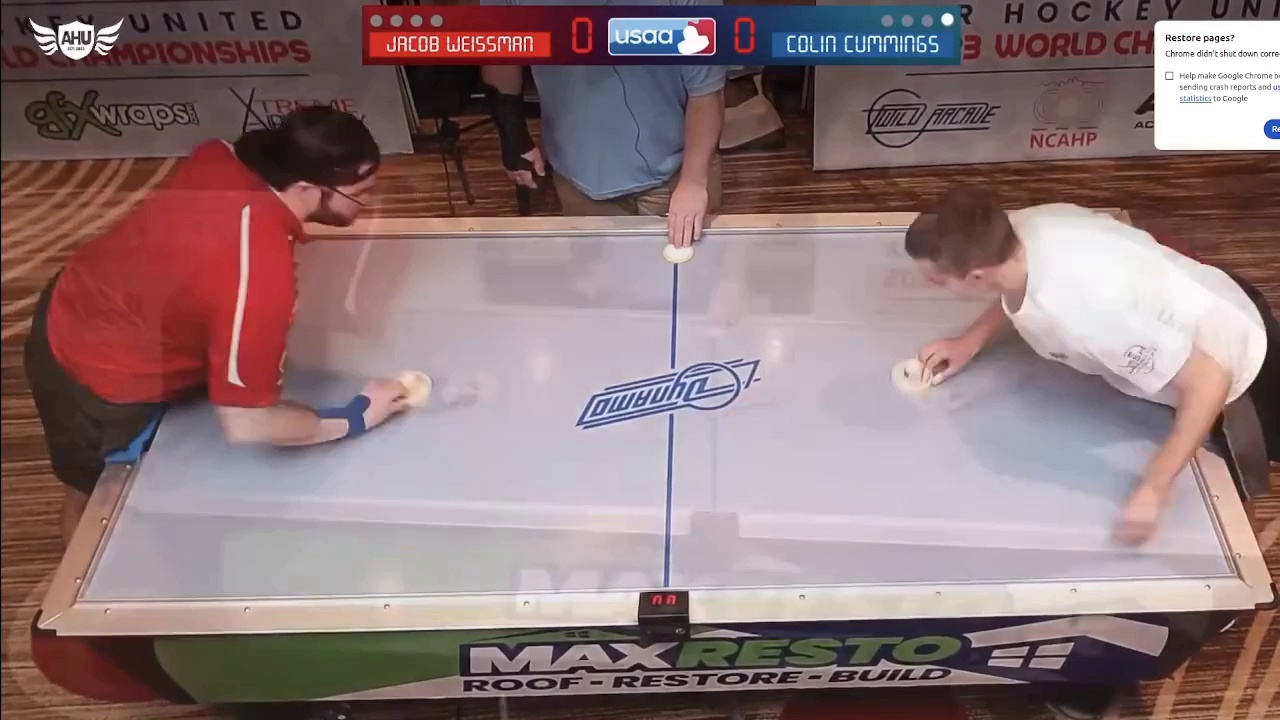player: (892, 354, 938, 396), (394, 368, 432, 407)
puck: (662, 239, 692, 262)
table: (83, 205, 1262, 608)
